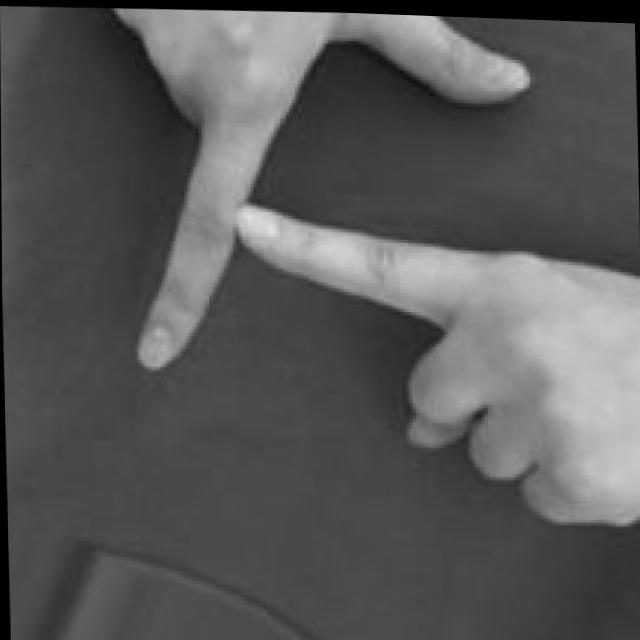F: (95, 4, 640, 532)
